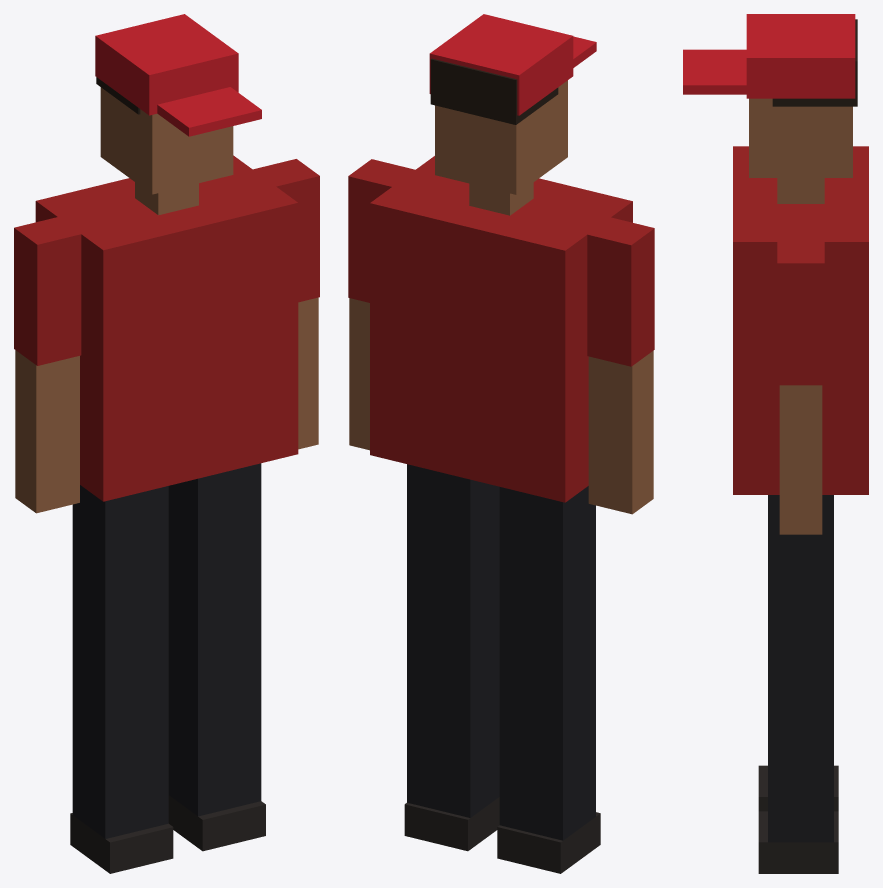
Rendered from fan_l.dae.
3 renders of one model, left to right at view 1: azimuth 30°, elevation 25°; view 2: azimuth 150°, elevation 25°; view 3: azimuth 270°, elevation 25°, orthographic.
Visible parts, largest first — view 1: marker; view 2: marker; view 3: marker.
Boxes of the visible parts, x1,y1,x2,y2 form: marker: (14,14,319,873); marker: (348,14,654,873); marker: (683,14,868,873).
Size of the model in its own units: 0.696 by 0.394 by 1.87.
